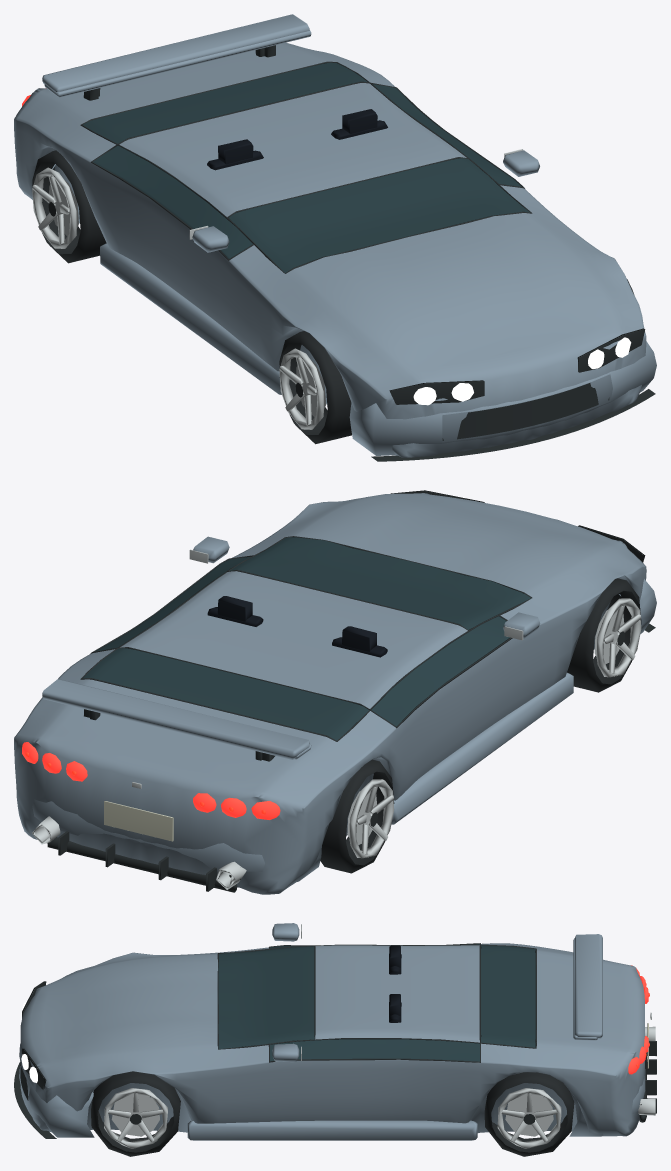
File: veylune-synova.glb
The picture shows the model from 3 angles, top to bottom: view 1: azimuth 30°, elevation 25°; view 2: azimuth 150°, elevation 25°; view 3: azimuth 270°, elevation 25°; orthographic projection. The views are drawn at different scales.
Visible parts, largest first — view 1: cofano, scocca, tetto, cristallo_ant, porta_sx, portellone, cristallo_post, spoiler, paraurti_ant, minigonna_sx, cristallo_sx, griglia (+19 smaller); view 2: scocca, tetto, cofano, portellone, cristallo_ant, cristallo_post, porta_sx, spoiler, minigonna_sx, cristallo_sx, ruota_ant_sx_gomma, ruota_post_sx_gomma (+16 smaller); view 3: scocca, cofano, tetto, porta_dx, cristallo_ant, portellone, minigonna_dx, cristallo_post, cristallo_dx, spoiler, ruota_ant_dx_gomma, ruota_post_dx_gomma (+14 smaller).
Part boxes in pixels (left/top/right/bottom): cofano: left=286, top=213, right=622, bottom=375; scocca: left=14, top=42, right=646, bottom=457; tetto: left=119, top=83, right=466, bottom=216; cristallo_ant: left=229, top=158, right=530, bottom=273; porta_sx: left=91, top=163, right=243, bottom=343; portellone: left=29, top=43, right=333, bottom=124; cristallo_post: left=83, top=62, right=367, bottom=143; spoiler: left=42, top=14, right=309, bottom=91; paraurti_ant: left=349, top=341, right=656, bottom=455; minigonna_sx: left=100, top=243, right=281, bottom=394; cristallo_sx: left=93, top=145, right=252, bottom=258; griglia: left=442, top=383, right=609, bottom=440; scocca: left=14, top=493, right=646, bottom=894; tetto: left=120, top=571, right=467, bottom=708; cofano: left=287, top=493, right=622, bottom=597; portellone: left=29, top=679, right=335, bottom=800; cristallo_ant: left=230, top=537, right=530, bottom=629; cristallo_post: left=83, top=648, right=368, bottom=740; porta_sx: left=392, top=632, right=535, bottom=800; spoiler: left=42, top=679, right=309, bottom=759; minigonna_sx: left=391, top=672, right=573, bottom=824; cristallo_sx: left=371, top=616, right=509, bottom=726; ruota_ant_sx_gomma: left=567, top=578, right=641, bottom=692; ruota_post_sx_gomma: left=320, top=759, right=394, bottom=873; scocca: left=20, top=943, right=644, bottom=1136; cofano: left=43, top=953, right=217, bottom=1068; tetto: left=315, top=945, right=479, bottom=1042; porta_dx: left=253, top=1059, right=480, bottom=1132; cristallo_ant: left=218, top=946, right=314, bottom=1049; portellone: left=536, top=949, right=644, bottom=1059; minigonna_dx: left=187, top=1120, right=477, bottom=1140; cristallo_post: left=481, top=945, right=535, bottom=1047; cristallo_dx: left=270, top=1039, right=479, bottom=1061; spoiler: left=574, top=934, right=602, bottom=1038; ruota_ant_dx_gomma: left=91, top=1071, right=180, bottom=1156; ruota_post_dx_gomma: left=484, top=1072, right=574, bottom=1156.
Size of the model in its own units: 2.3 by 1.01 by 4.82.
